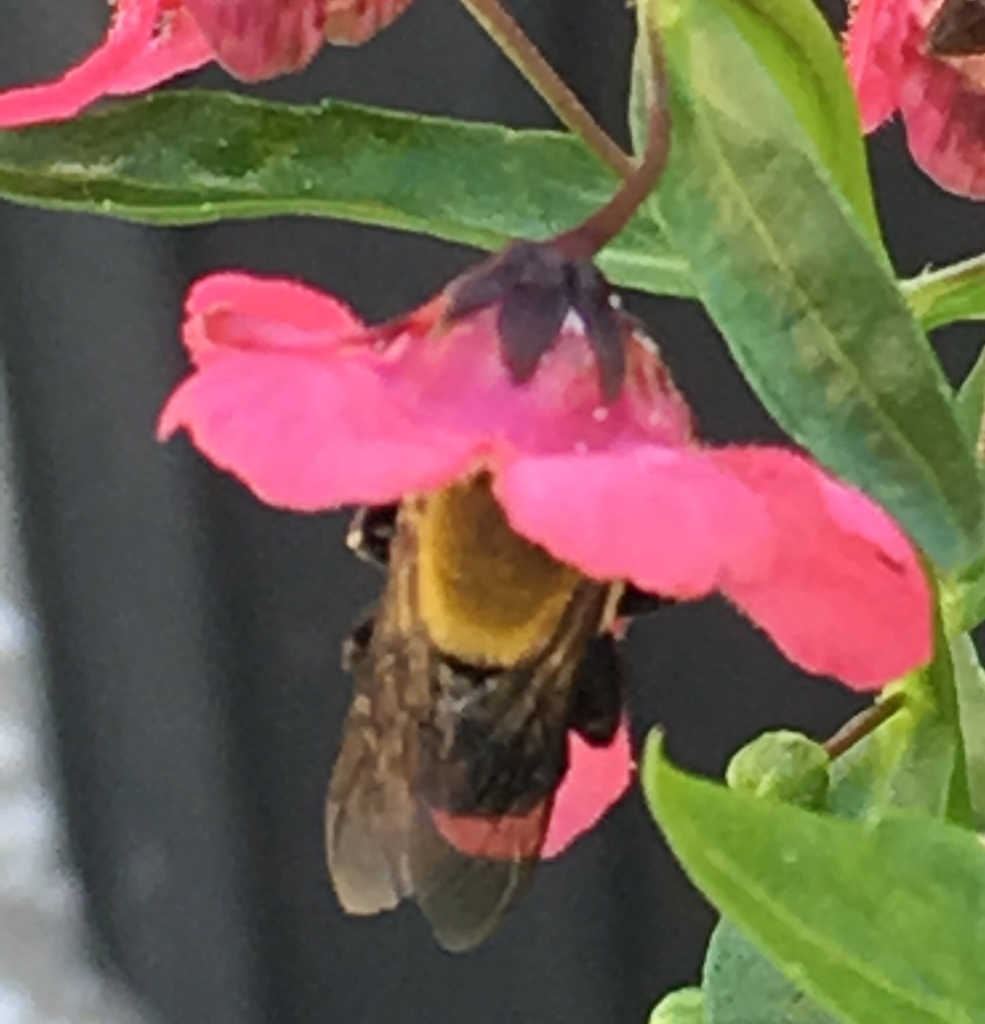not_bumblebee: (318, 299, 640, 955)
